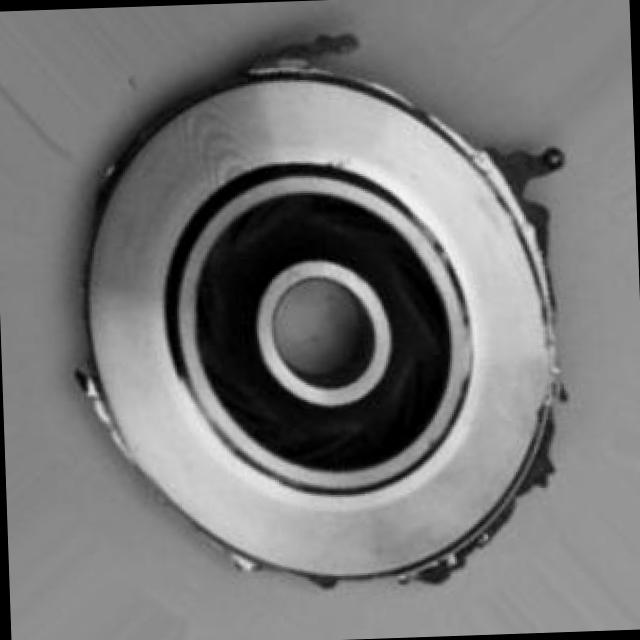Defect: (484, 130, 576, 207)
